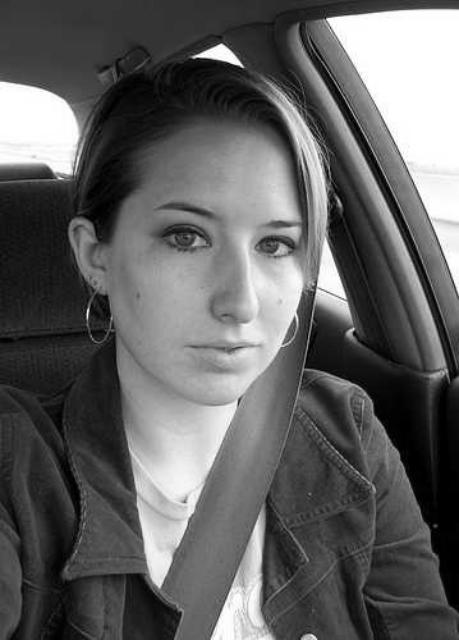SafeDriving: (152, 211, 220, 258), (243, 218, 307, 264)
Seatbelt: (154, 274, 324, 640)
